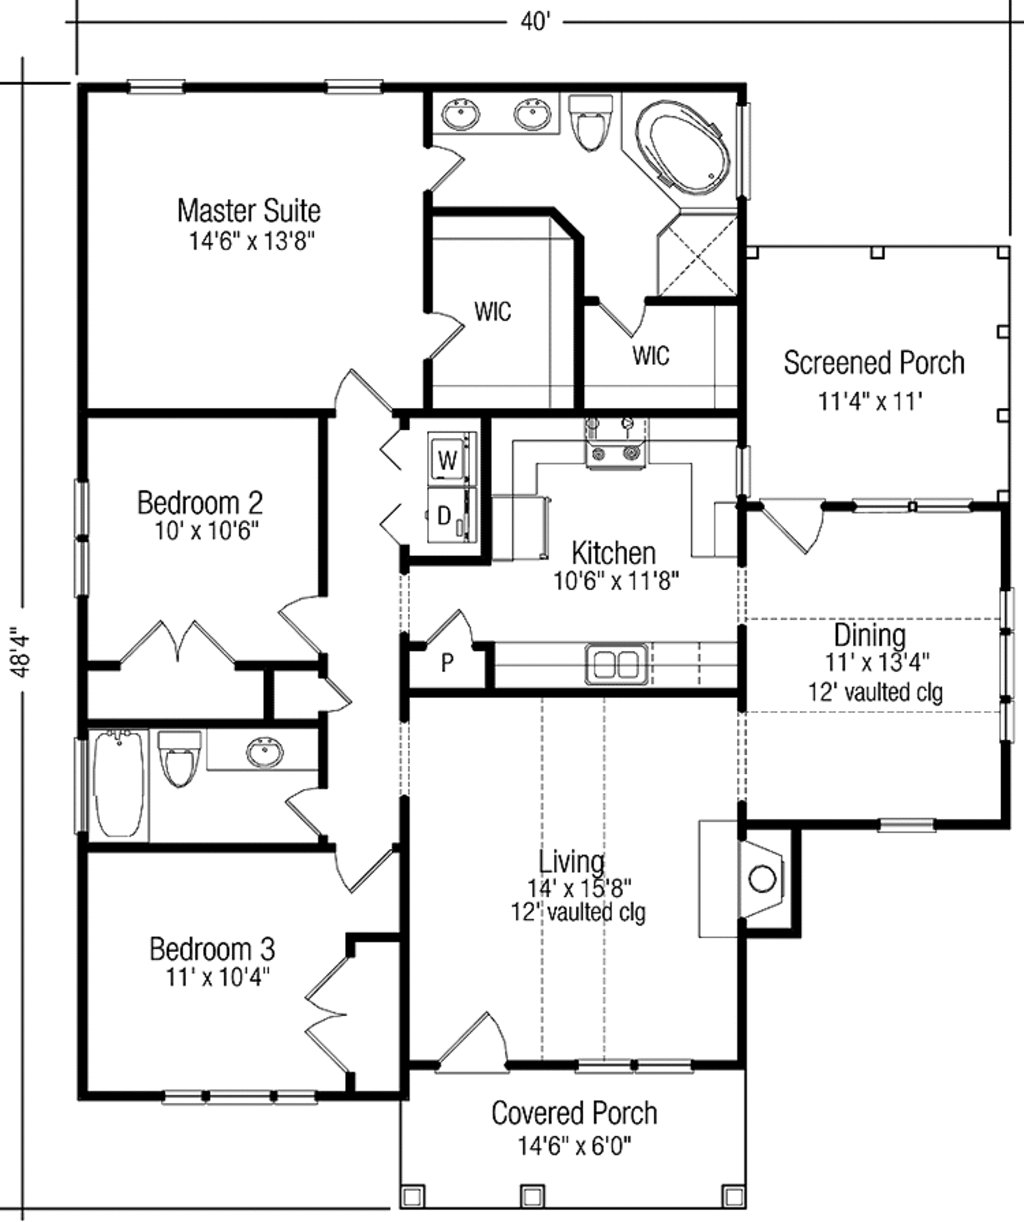door: (290, 932, 383, 1081), (429, 1005, 518, 1092), (122, 607, 238, 668), (318, 359, 401, 428), (585, 294, 668, 359), (759, 492, 842, 555), (286, 655, 360, 724), (412, 302, 481, 372), (275, 589, 346, 654), (329, 839, 409, 894), (420, 594, 492, 650), (286, 781, 344, 850), (418, 126, 464, 209)
large_sink: (568, 83, 640, 167), (151, 718, 207, 792)
small_sink: (210, 720, 342, 783), (427, 83, 579, 133)
tub: (86, 729, 148, 842)
twin_sink: (575, 624, 681, 707)
window: (162, 1072, 353, 1111), (559, 1050, 688, 1094), (996, 578, 1024, 739), (316, 63, 398, 107), (855, 492, 973, 517), (873, 813, 942, 846), (122, 70, 198, 100), (72, 474, 90, 591)
